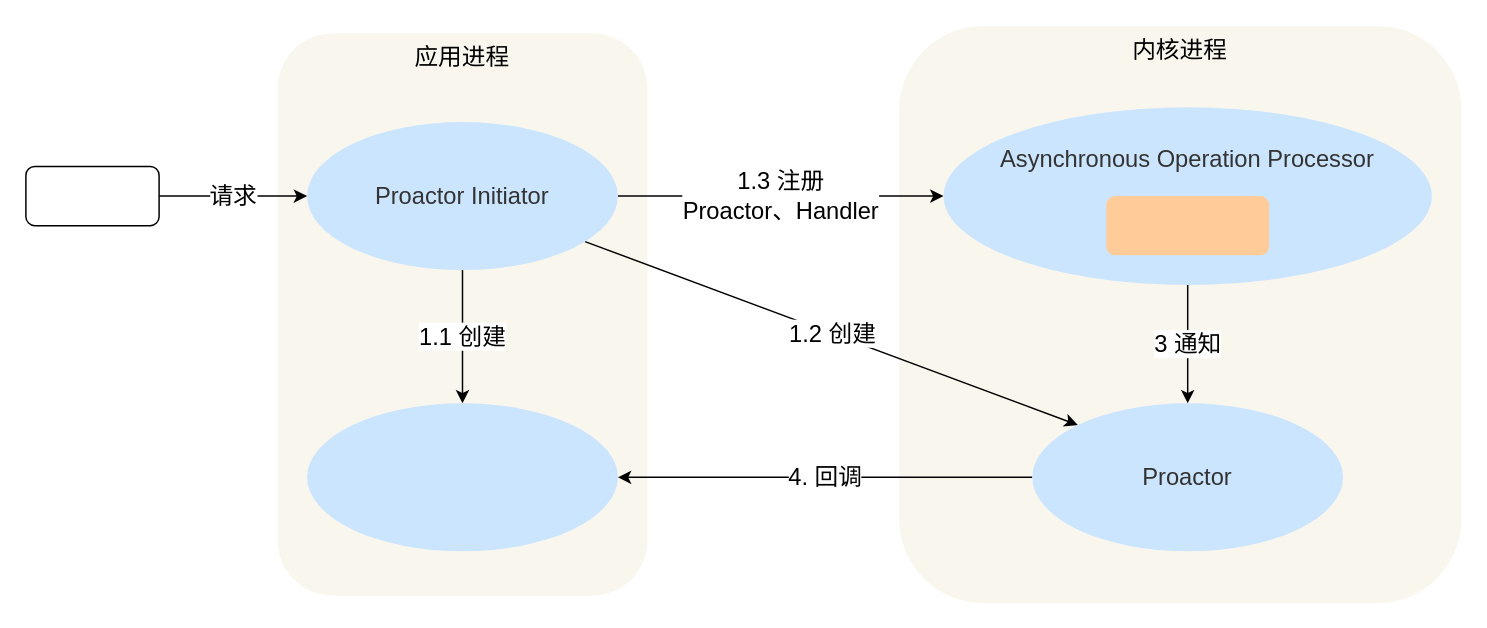
The diagram is 1487 pixels wide and 628 high, and some of its shapes have lost their labels. Here are the shapes that lost their labels. From the top down, the centre of each, then its label:
point 91,195: client
point 1187,225: 异步 I/O 操作
point 461,477: Handler
